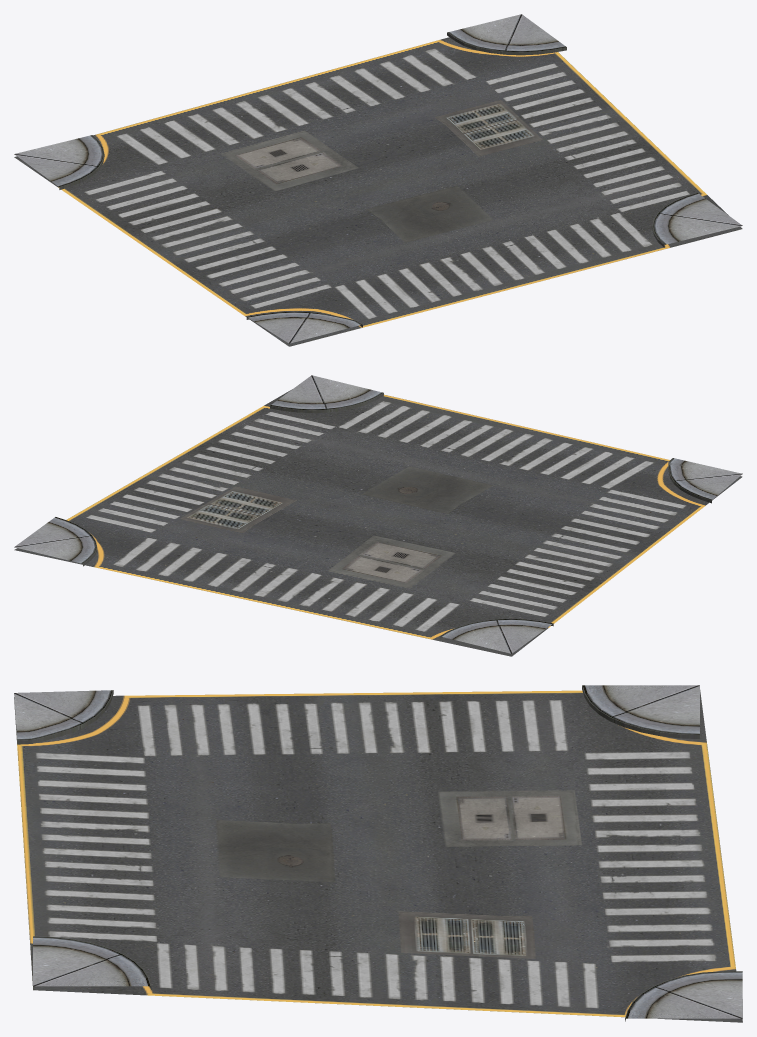
Rendered from road24.glb.
The picture shows the model from 3 angles, top to bottom: view 1: azimuth 30°, elevation 25°; view 2: azimuth 150°, elevation 25°; view 3: azimuth 270°, elevation 25°; orthographic projection. The views are drawn at different scales.
Visible parts, largest first — view 1: Road_X_Intersection_City_Road_mat_0.001; view 2: Road_X_Intersection_City_Road_mat_0.001; view 3: Road_X_Intersection_City_Road_mat_0.001.
Boxes of the visible parts, x1=… form: Road_X_Intersection_City_Road_mat_0.001: x1=14, y1=14, x2=742, y2=346; Road_X_Intersection_City_Road_mat_0.001: x1=14, y1=375, x2=742, y2=656; Road_X_Intersection_City_Road_mat_0.001: x1=14, y1=685, x2=742, y2=1022.
Bounding box in the file's own units: 36.33 × 0.2045 × 33.56.
Materials: 2 (2 with a texture image).
